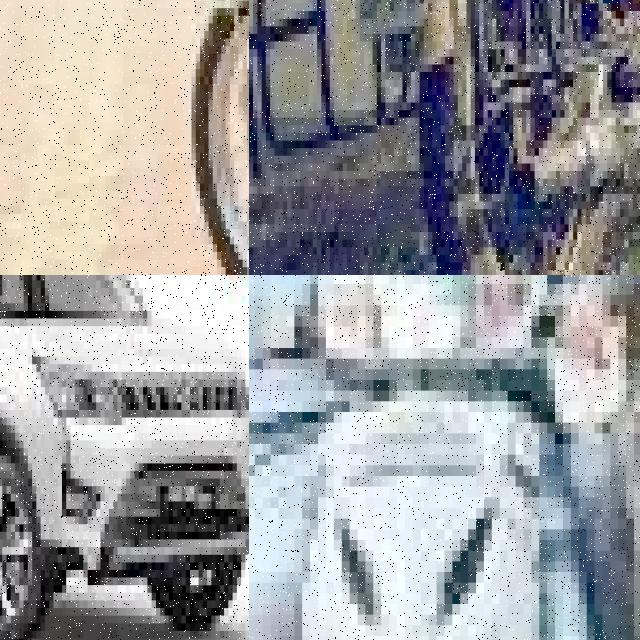bike: (294, 275, 586, 640), (257, 0, 640, 275), (183, 0, 249, 275)
car: (0, 275, 249, 640)
